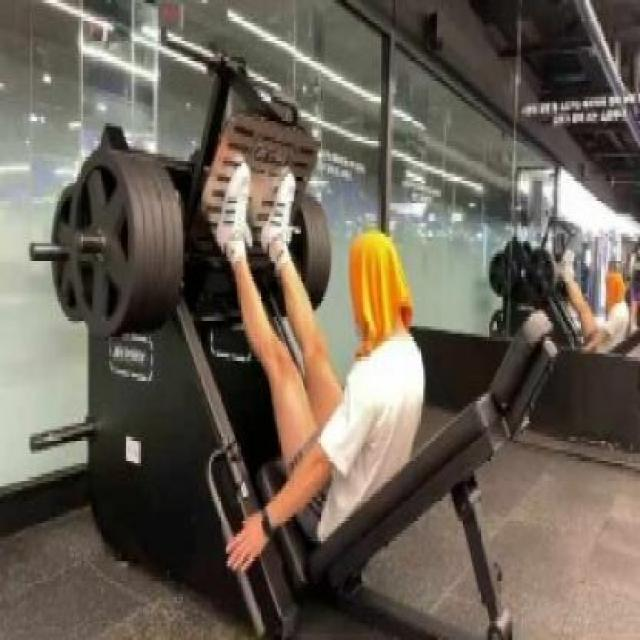leg press: (23, 40, 577, 640)
